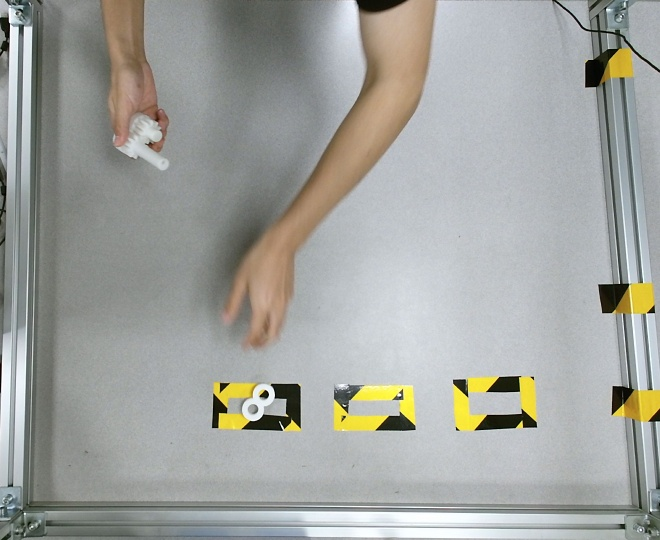stage_3: (112, 113, 168, 171)
